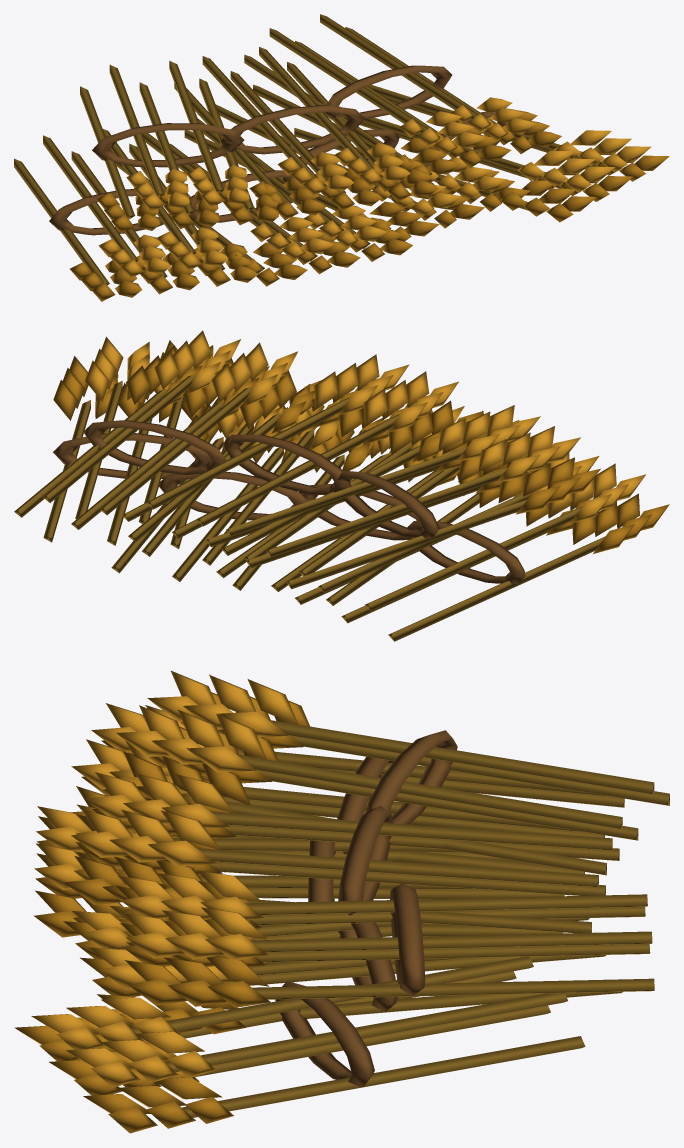
Rendered from pile-rice-7.obj.
3 views of the same model, one above another, from view 1: azimuth 30°, elevation 25°; view 2: azimuth 150°, elevation 25°; view 3: azimuth 270°, elevation 25° (orthographic). The views are drawn at different scales.
Visible parts, largest first — view 1: pile-rice-7; view 2: pile-rice-7; view 3: pile-rice-7.
Part boxes in pixels (x1,y1,x2,y2): pile-rice-7: [14, 14, 669, 301]; pile-rice-7: [14, 330, 669, 641]; pile-rice-7: [14, 670, 669, 1133].
Size of the model in its own units: 0.7921 by 0.1212 by 0.5467.
Materials: 1 (1 with a texture image).
